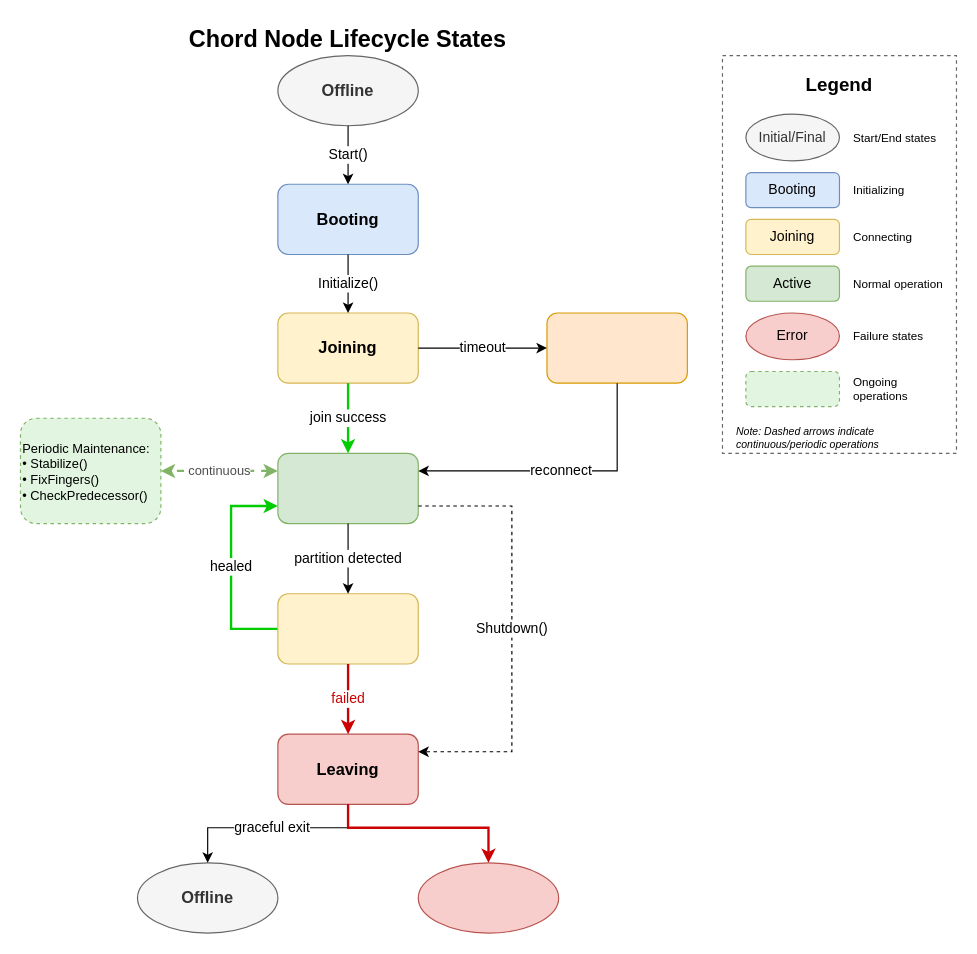
The diagram is 977 pixels wide and 954 high, and some of its shapes have lost their labels. The shapes that lost their labels are listed below. From the top down, each one's box as (x1, y1, x2, y2) in pixels, then its label:
(546, 312, 687, 383): Isolated
(277, 452, 418, 524): Active (stable)
(277, 593, 418, 664): Partition Healing
(417, 862, 559, 933): Crashed
